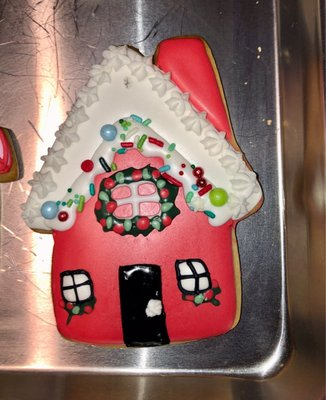sushi: (13, 34, 266, 357)
